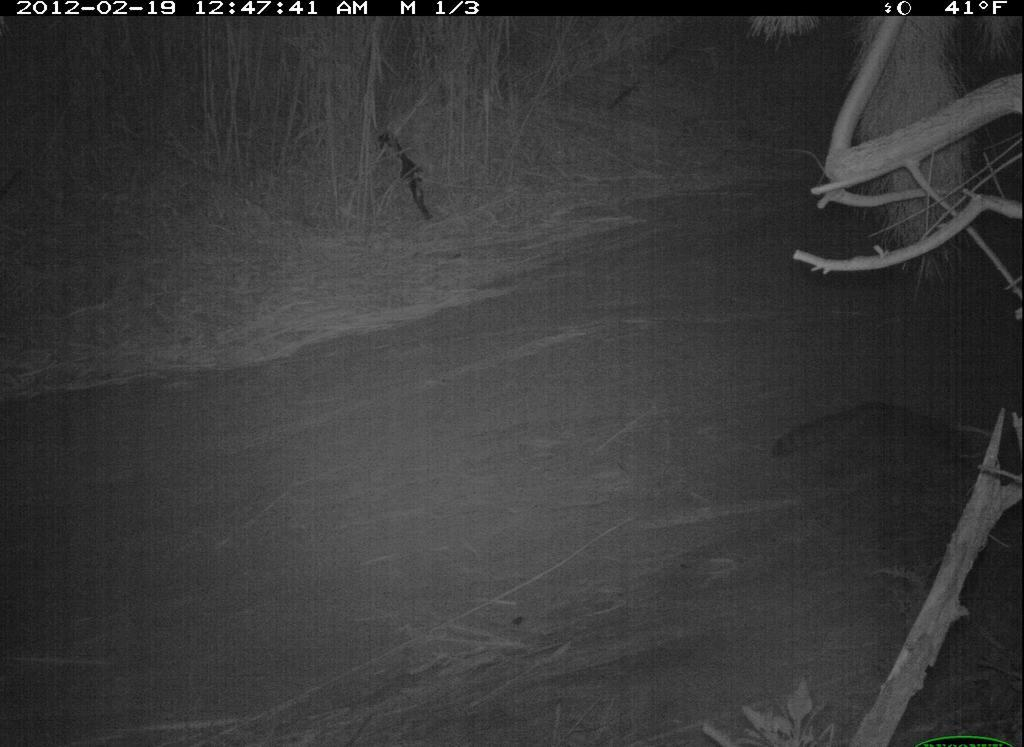raccoon: (740, 385, 991, 523)
